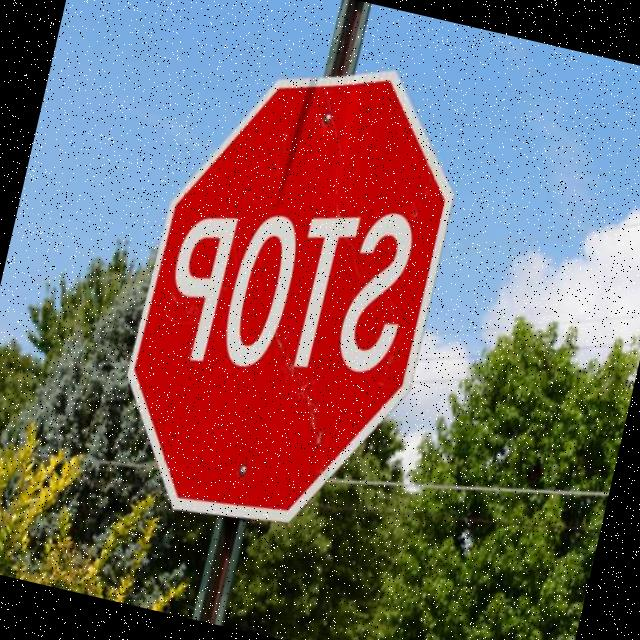stop: (90, 18, 488, 565)
